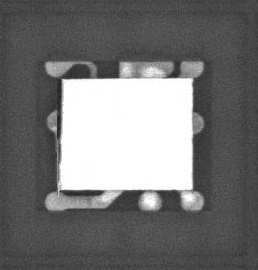DIE_BROKEN: (55, 75, 63, 169)
